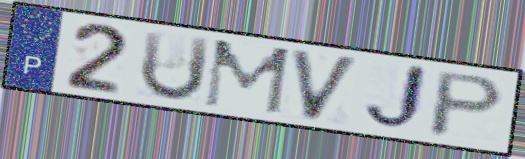2: (64, 21, 133, 97)
J: (360, 61, 432, 134)
M: (200, 37, 294, 118)
P: (424, 69, 508, 140)
U: (136, 28, 214, 103)
V: (287, 47, 363, 125)
